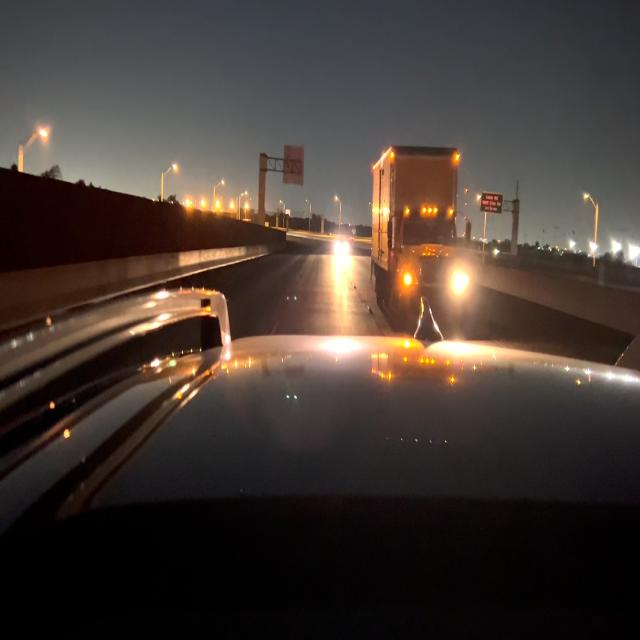back-of-sign: (285, 144, 303, 186)
